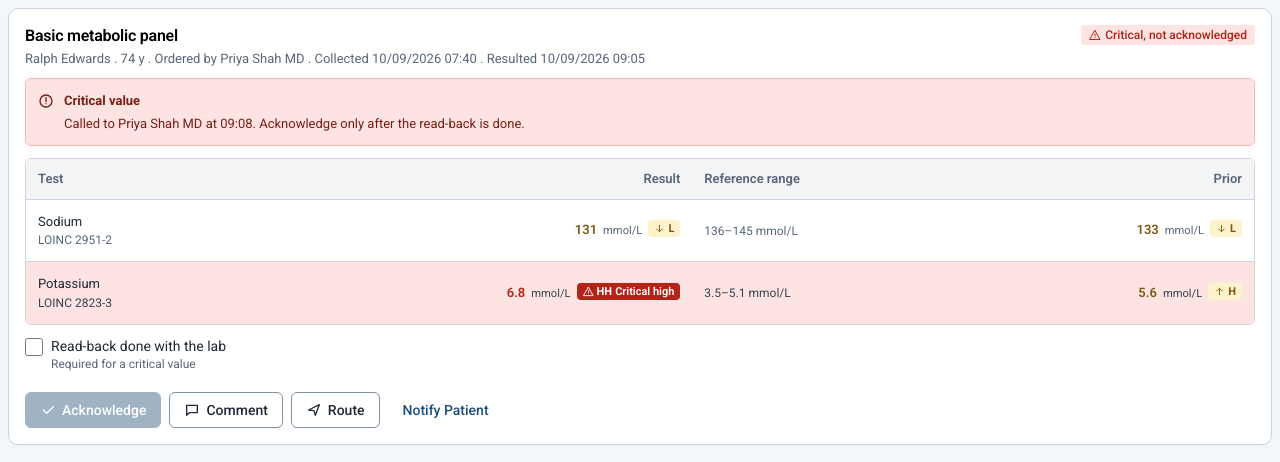
Scenario: ResultsReview › needs the read-back before a critical value can be acknowledged
This screenshot has width=1280, height=462.
Expected: the button "Acknowledge" is disabled, [25, 392, 161, 428]
Click the checkbox labelled "Read-back done with the lab Required for a critical value". click: (34, 346)
box: [25, 338, 43, 356]
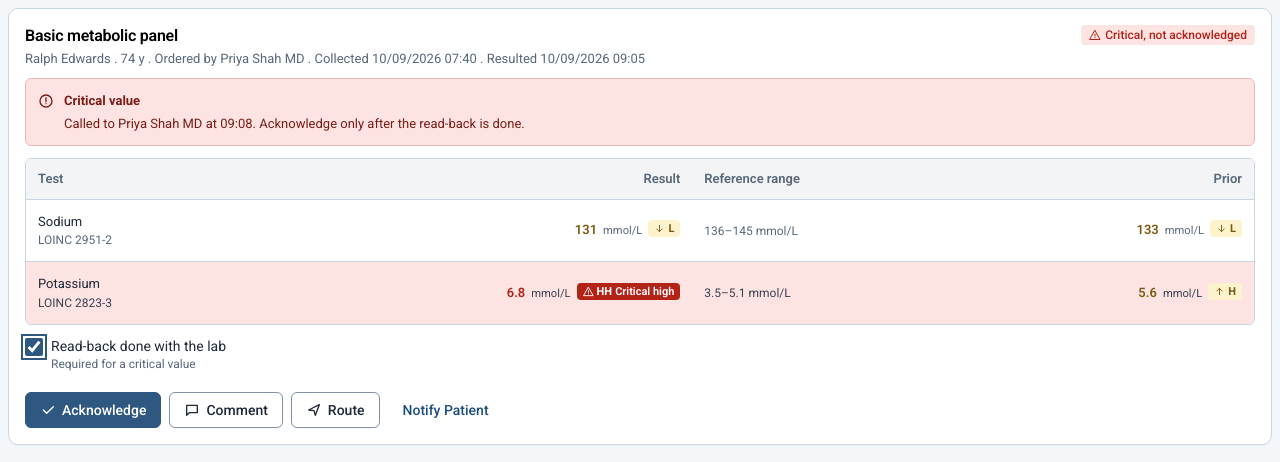
Now the button "Acknowledge" is enabled
Click the button "Acknowledge". click: (93, 410)
box: [25, 392, 161, 428]
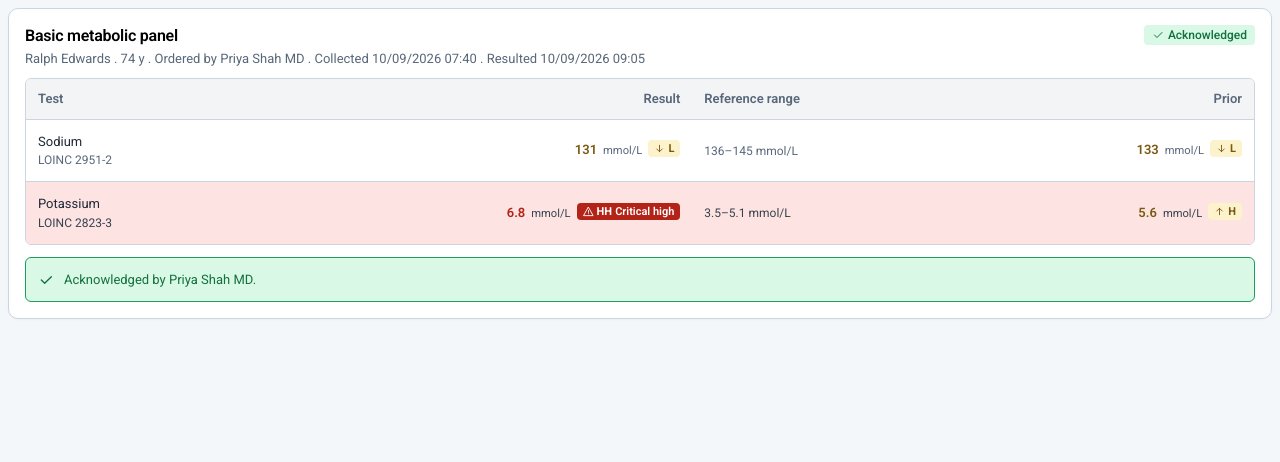
Expected: the text "Acknowledged" is shown, [1144, 25, 1255, 45]
Now the text "Acknowledged by Priya Shah MD." is shown, box [64, 272, 256, 286]
